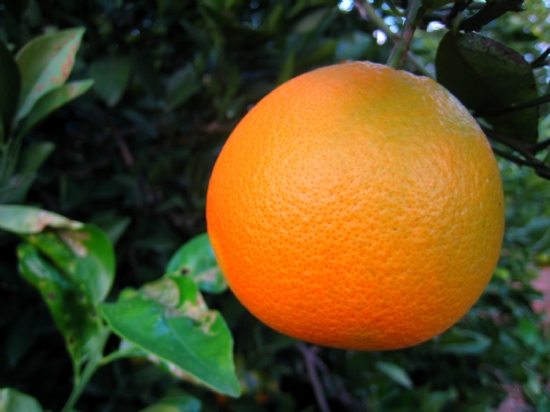portakal: (191, 39, 531, 357)
